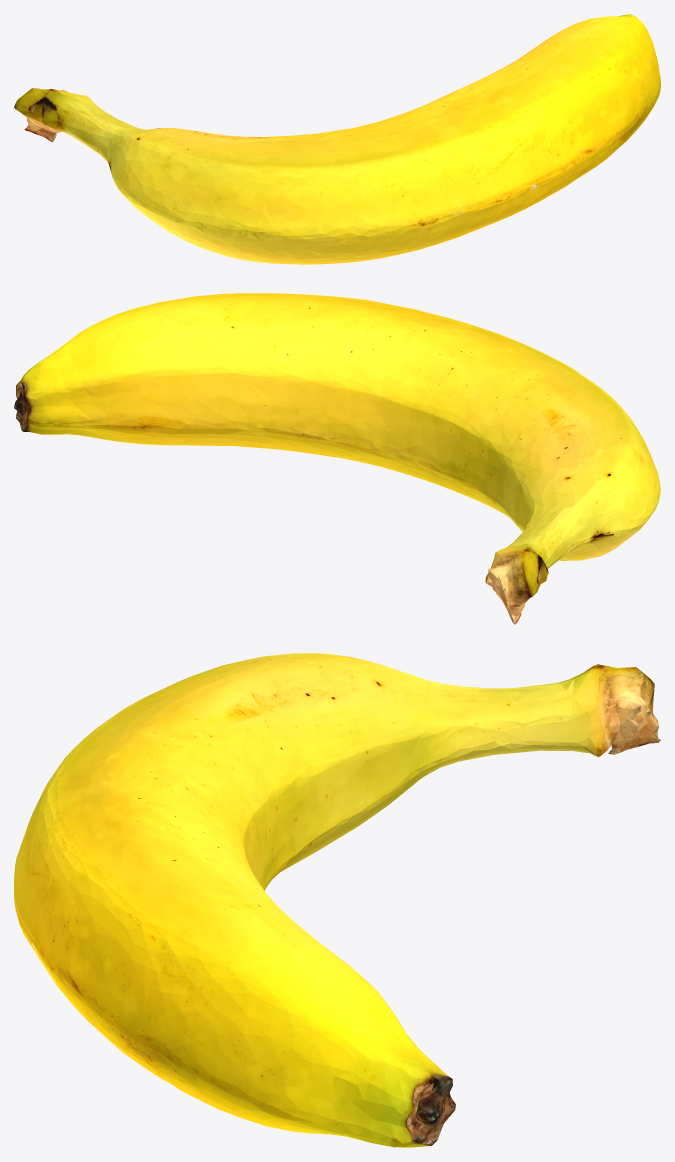
Rendered from banana.glb.
3 renders of one model, top to bottom at view 1: azimuth 30°, elevation 25°; view 2: azimuth 150°, elevation 25°; view 3: azimuth 270°, elevation 25°, orthographic. The views are drawn at different scales.
Visible parts, largest first — view 1: banana; view 2: banana; view 3: banana.
Part boxes in pixels (x1,y1,x2,y2): banana: [14, 14, 660, 264]; banana: [14, 293, 660, 624]; banana: [14, 653, 660, 1147].
Bounding box in the file's own units: 6.78 × 1.61 × 4.44.
Materials: 1 (1 with a texture image).
